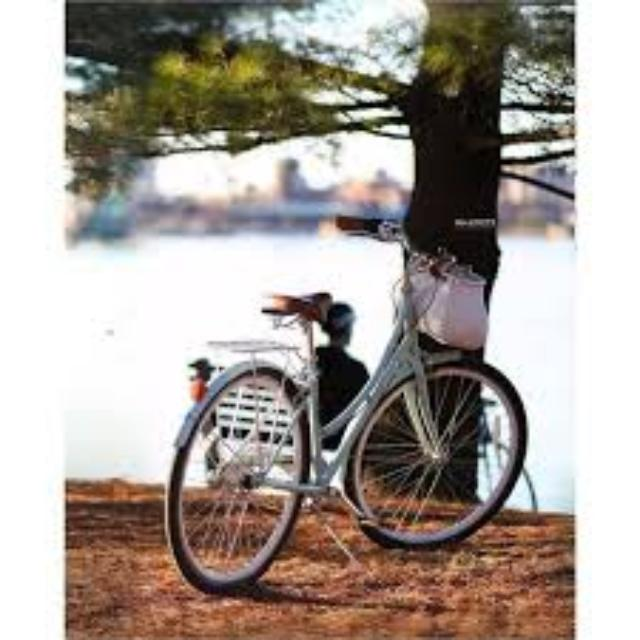obstacle: (151, 223, 569, 575)
